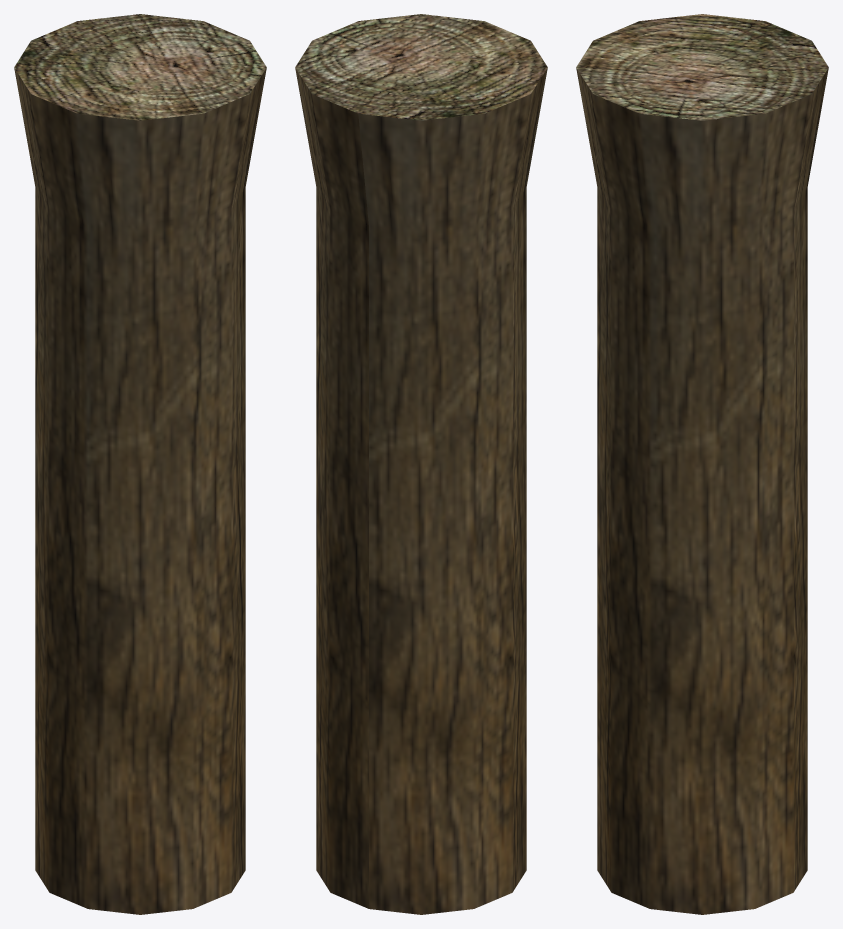
File: SM_wLadderPost.FBX
3 renders of one model, left to right at view 1: azimuth 30°, elevation 25°; view 2: azimuth 150°, elevation 25°; view 3: azimuth 270°, elevation 25°, orthographic.
Visible parts, largest first — view 1: SM_wladderPost; view 2: SM_wladderPost; view 3: SM_wladderPost.
Part boxes in pixels (x1,y1,x2,y2): SM_wladderPost: (14,14,266,914); SM_wladderPost: (295,14,547,914); SM_wladderPost: (576,14,828,914).
Size of the model in its own units: 38.5 by 135 by 38.5.
